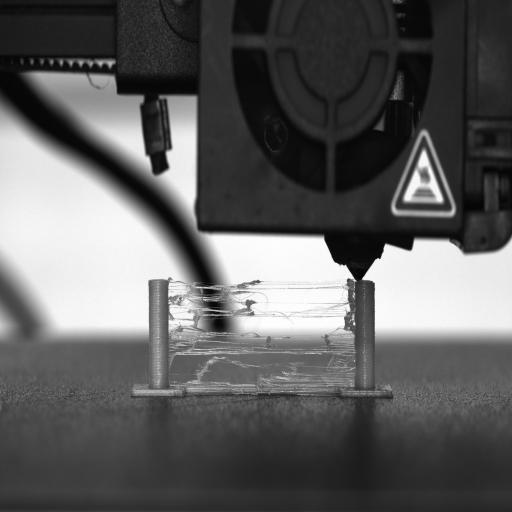spaghetti_and_stringing: (168, 275, 356, 387)
